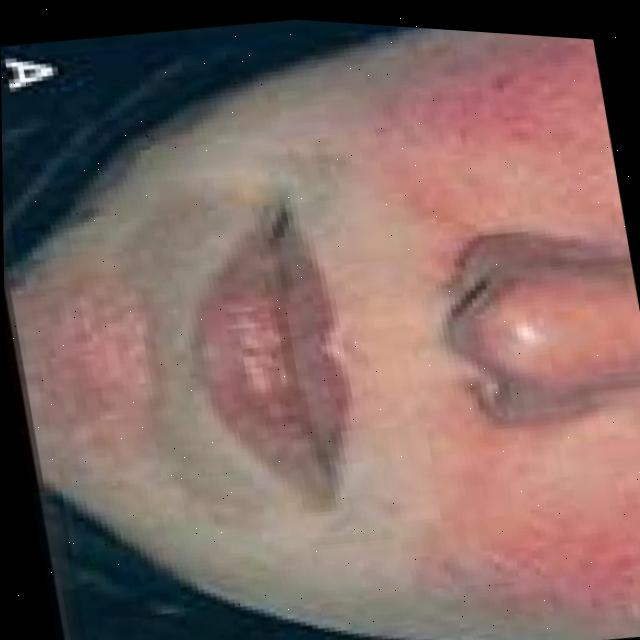Rosacea: (399, 27, 615, 199), (446, 496, 640, 640)
